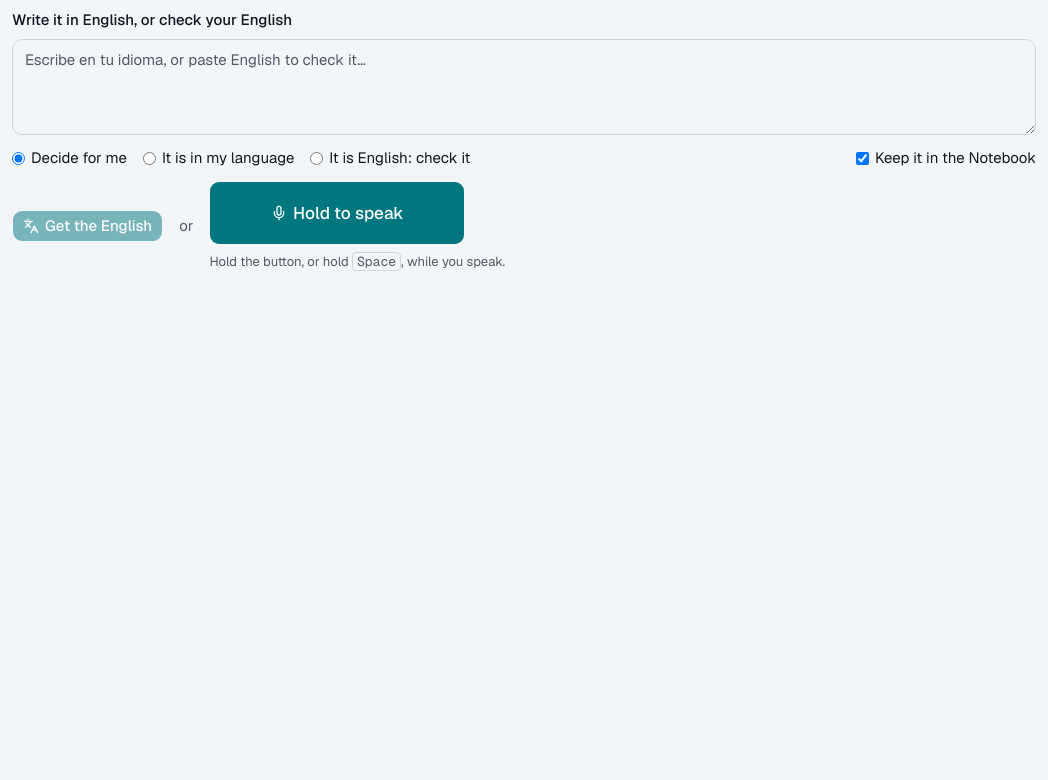
Test case: a typed text is sent to be decided, kept, and its English shown
Type "Laura, te escribo" into the text box labelled "Write it in English, or check your English" at (524, 87), box x1=12 y1=39 x2=1036 y2=135
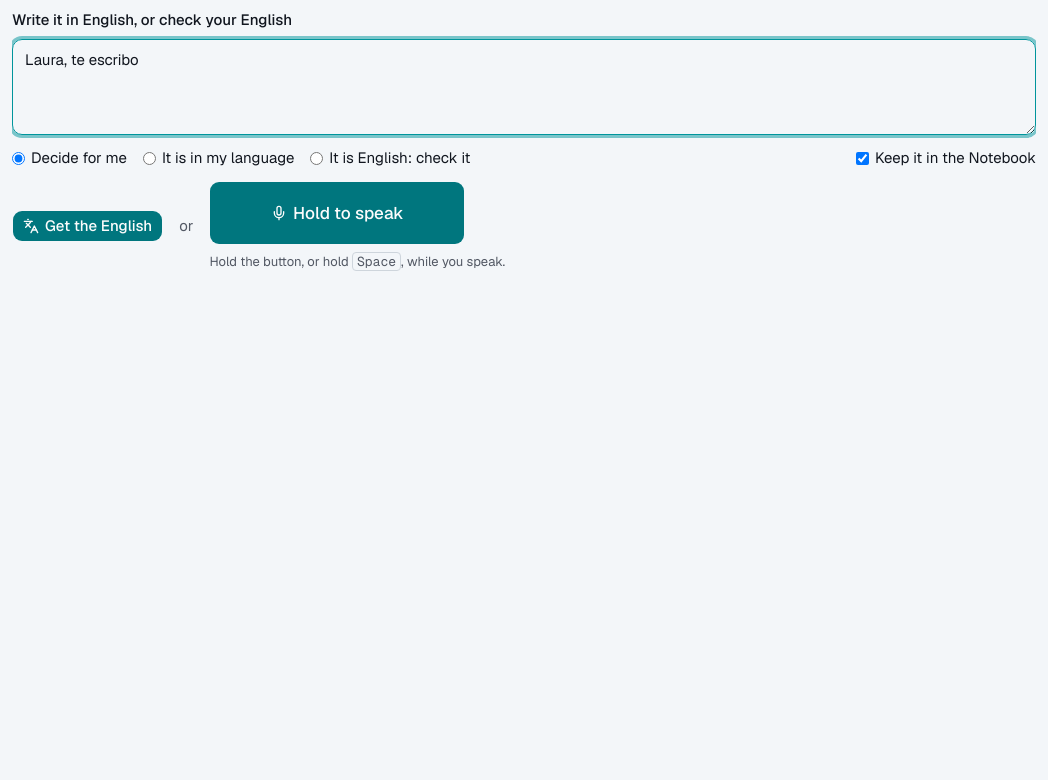
Click the button "Get the English" at (88, 226), box x1=12 y1=210 x2=163 y2=242
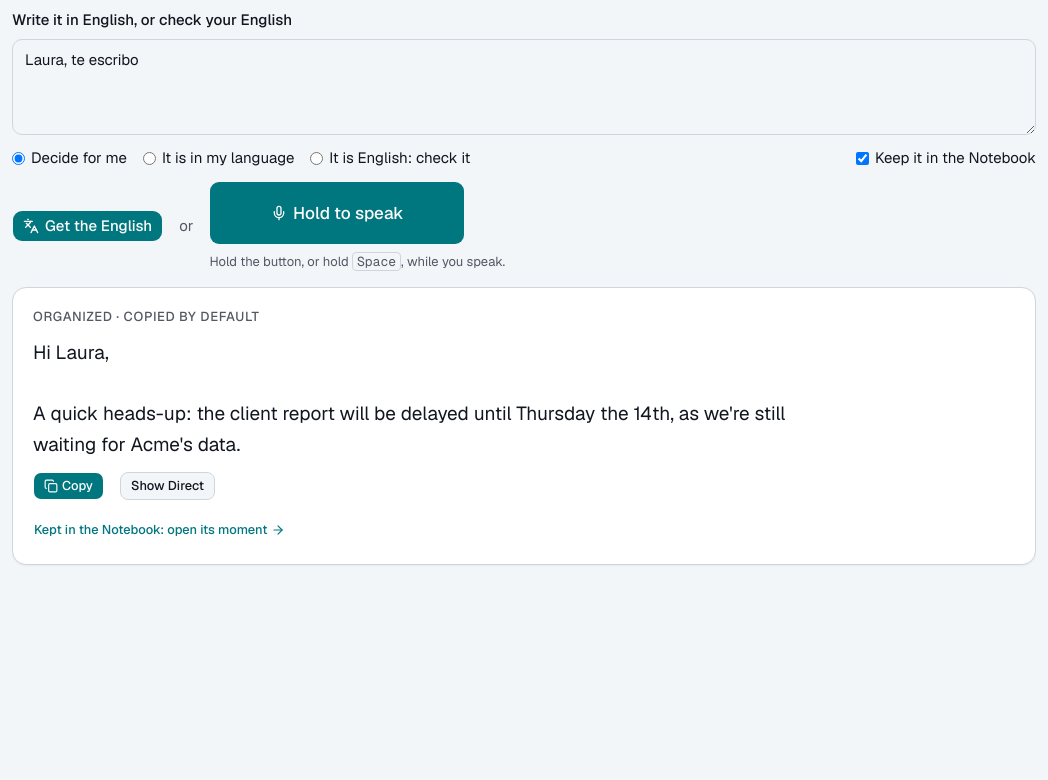
Expected: the text with test id "english-organized" is shown, x1=33 y1=338 x2=839 y2=460
